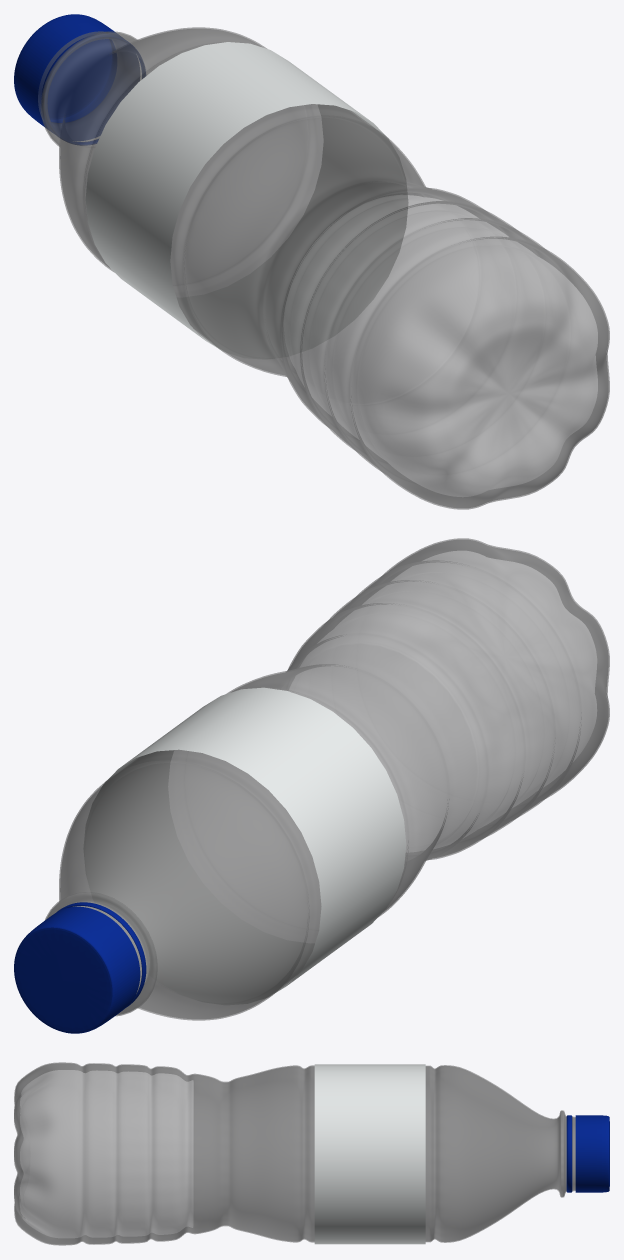
3 renders of one model, top to bottom at view 1: azimuth 30°, elevation 25°; view 2: azimuth 150°, elevation 25°; view 3: azimuth 270°, elevation 25°, orthographic. The views are drawn at different scales.
Visible parts, largest first — view 1: bottle_0, water_inside_4, label_3, cap_1, cap2_2; view 2: bottle_0, water_inside_4, label_3, cap_1, cap2_2; view 3: bottle_0, water_inside_4, label_3, cap_1, cap2_2.
Boxes of the visible parts, <box> form: bottle_0: <box>38,27,609,509</box>; water_inside_4: <box>284,195,597,496</box>; label_3: <box>85,42,408,358</box>; cap_1: <box>14,14,139,140</box>; cap2_2: <box>41,34,145,144</box>; bottle_0: <box>45,538,609,1020</box>; water_inside_4: <box>290,551,596,851</box>; label_3: <box>84,687,406,1004</box>; cap_1: <box>14,906,140,1033</box>; cap2_2: <box>57,902,146,1007</box>; bottle_0: <box>14,1062,575,1245</box>; water_inside_4: <box>20,1070,192,1237</box>; label_3: <box>314,1064,425,1244</box>; cap_1: <box>575,1115,609,1192</box>; cap2_2: <box>566,1115,572,1192</box>.
Size of the model in its own units: 0.0643 by 0.0643 by 0.2095.
